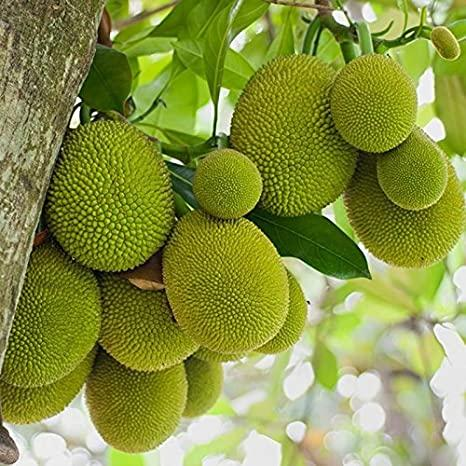mit: (47, 117, 174, 271), (162, 211, 292, 355)
